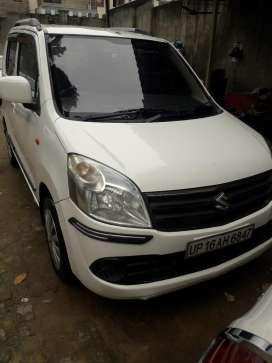nameplate: (180, 222, 256, 260)
